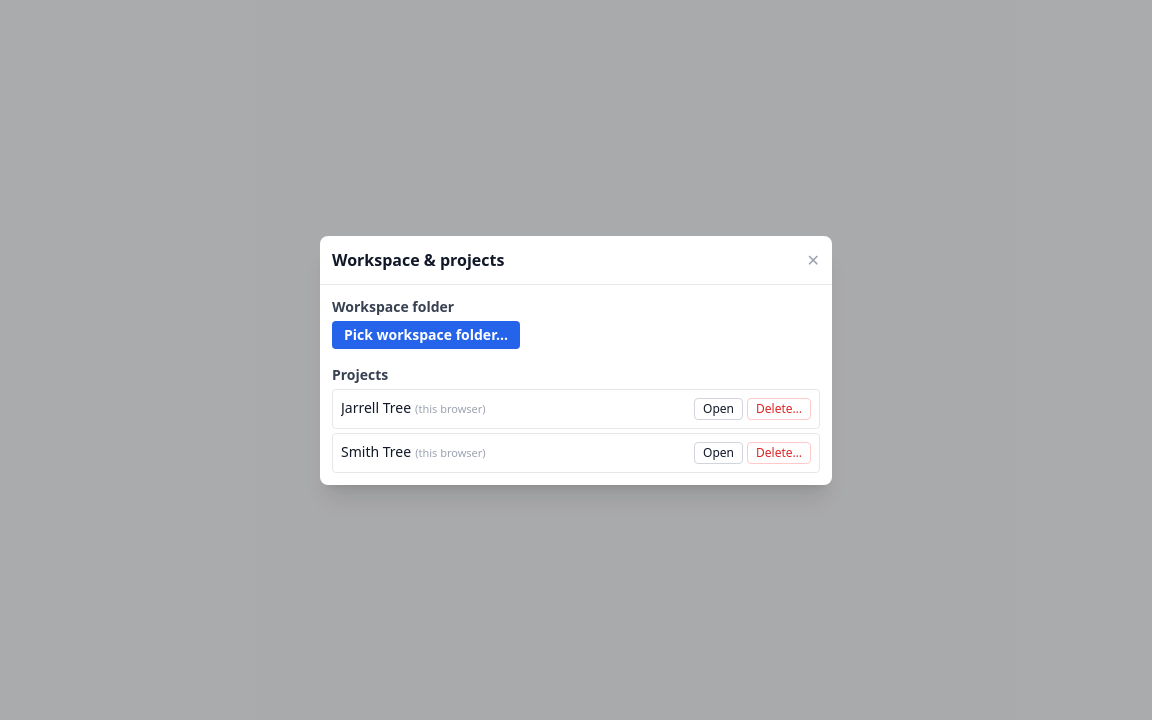
Scenario: WorkspaceModal - deleting a project › does not delete anything on the first click
Step 1. Click the button "Delete…" in the row of "Jarrell Tree" → coordinates (779, 408), box [747,398,811,420]
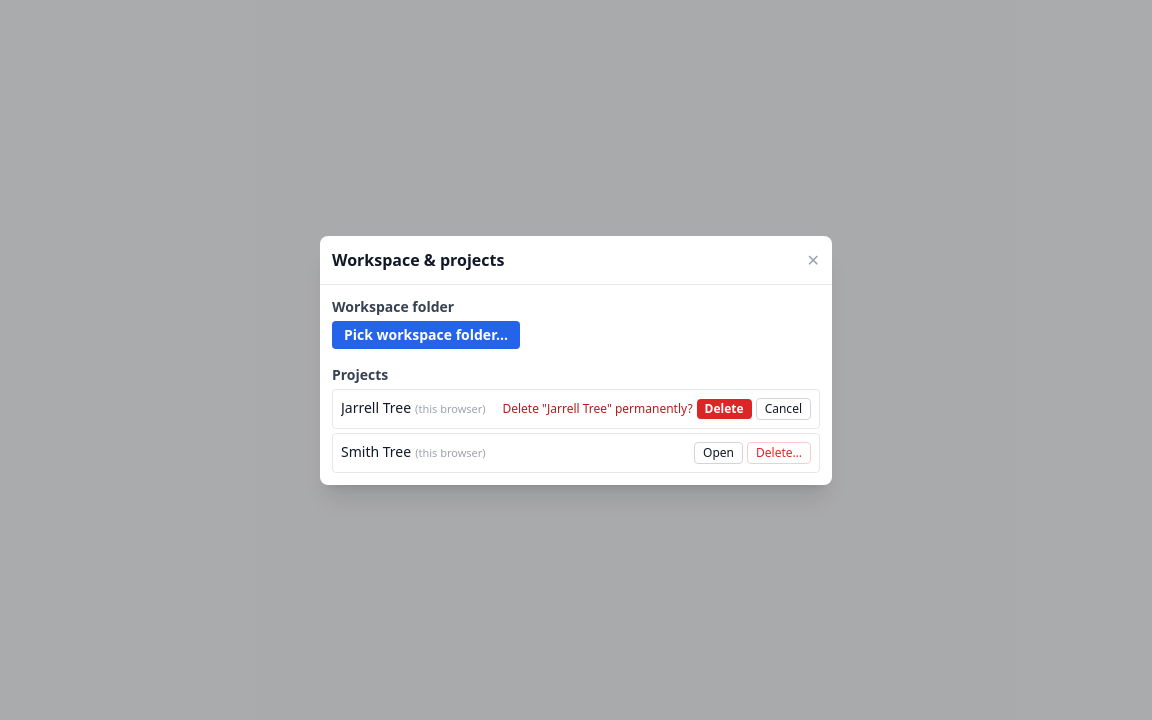
Now the text "Delete \"Jarrell Tree\" permanently?" is shown, box [502,400,693,416]
